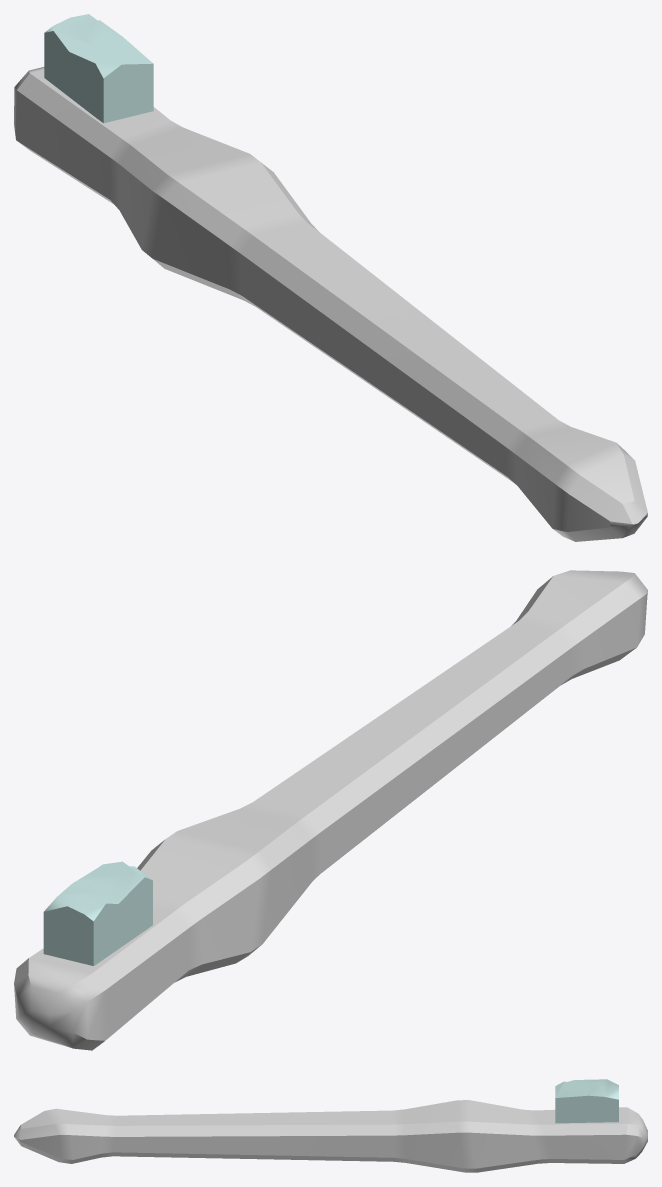
The model's file is Toothbrush_v2.fbx.
The picture shows the model from 3 angles, top to bottom: view 1: azimuth 30°, elevation 25°; view 2: azimuth 150°, elevation 25°; view 3: azimuth 270°, elevation 25°; orthographic projection. The views are drawn at different scales.
Parts seen in each view (by area): view 1: pCube1; view 2: pCube1; view 3: pCube1.
Boxes of the visible parts, x1,y1,x2,y2 form: pCube1: (14, 14, 647, 541); pCube1: (14, 570, 647, 1050); pCube1: (14, 1079, 647, 1172).
Bounding box in the file's own units: 0.7823 × 1 × 7.22.
